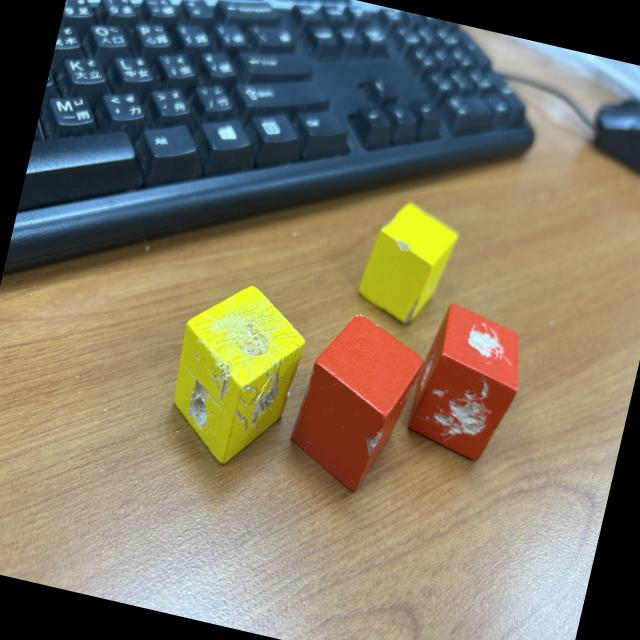broken: (156, 272, 314, 478), (280, 304, 431, 501), (401, 298, 534, 467), (350, 194, 464, 334)
